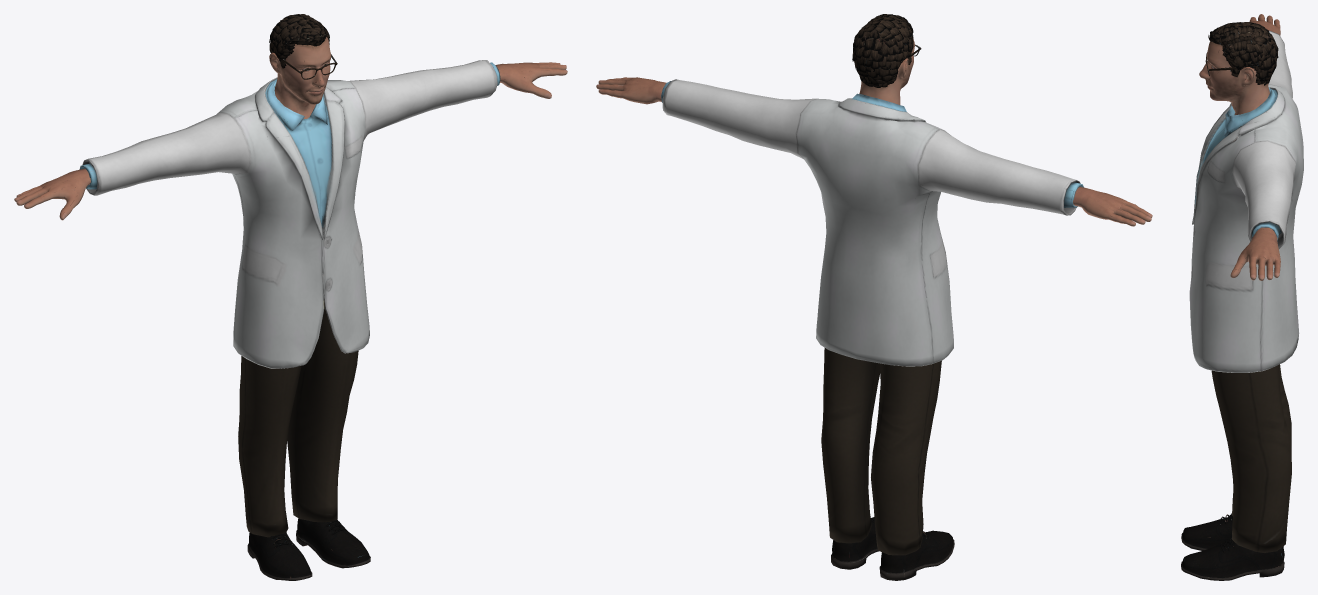
File: Scientist.fbx
3 renders of one model, left to right at view 1: azimuth 30°, elevation 25°; view 2: azimuth 150°, elevation 25°; view 3: azimuth 270°, elevation 25°, orthographic.
Parts seen in each view (by area): view 1: Scientist_Base.001; view 2: Scientist_Base.001; view 3: Scientist_Base.001.
Boxes of the visible parts, x1,y1,x2,y2 form: Scientist_Base.001: [14, 14, 567, 580]; Scientist_Base.001: [596, 14, 1152, 580]; Scientist_Base.001: [1181, 14, 1303, 580].
Size of the model in its own units: 577 by 538 by 112.
1 material, 1 textured.
